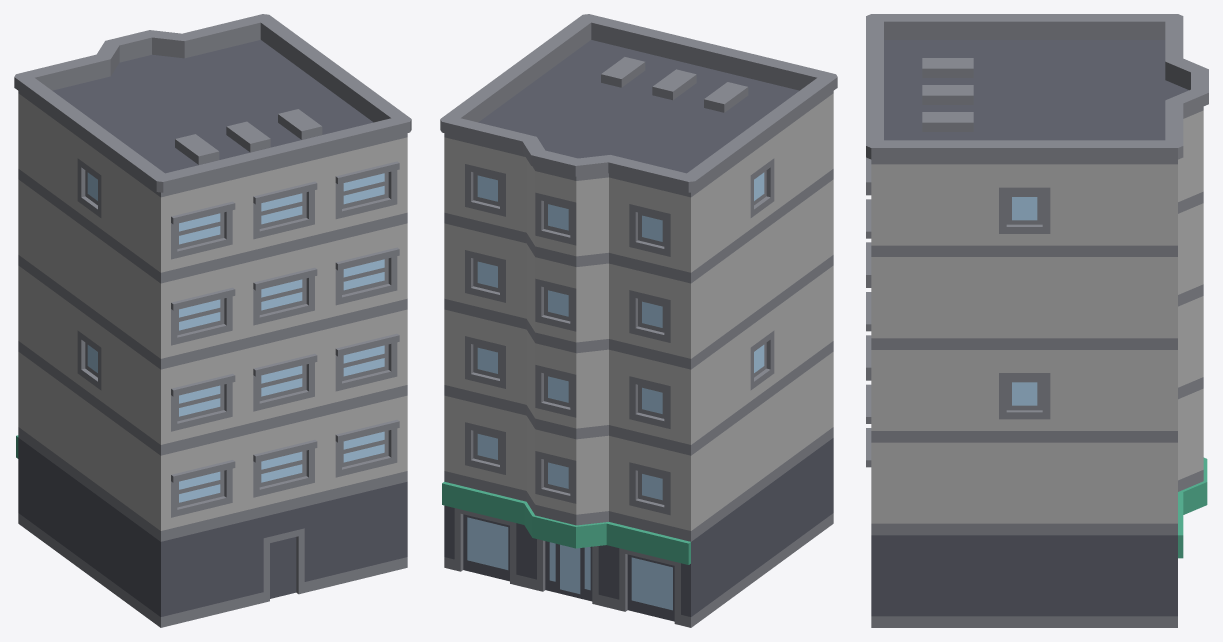
Rendered from large_buildingE.obj.
The picture shows the model from 3 angles, left to right: view 1: azimuth 30°, elevation 25°; view 2: azimuth 150°, elevation 25°; view 3: azimuth 270°, elevation 25°; orthographic projection. The views are drawn at different scales.
Parts seen in each view (by area): view 1: large_buildingE; view 2: large_buildingE; view 3: large_buildingE.
Boxes of the visible parts, x1,y1,x2,y2 form: large_buildingE: [14, 14, 411, 627]; large_buildingE: [440, 14, 837, 627]; large_buildingE: [866, 14, 1208, 627].
Bounding box in the file's own units: 1.24 × 2.08 × 1.34.
